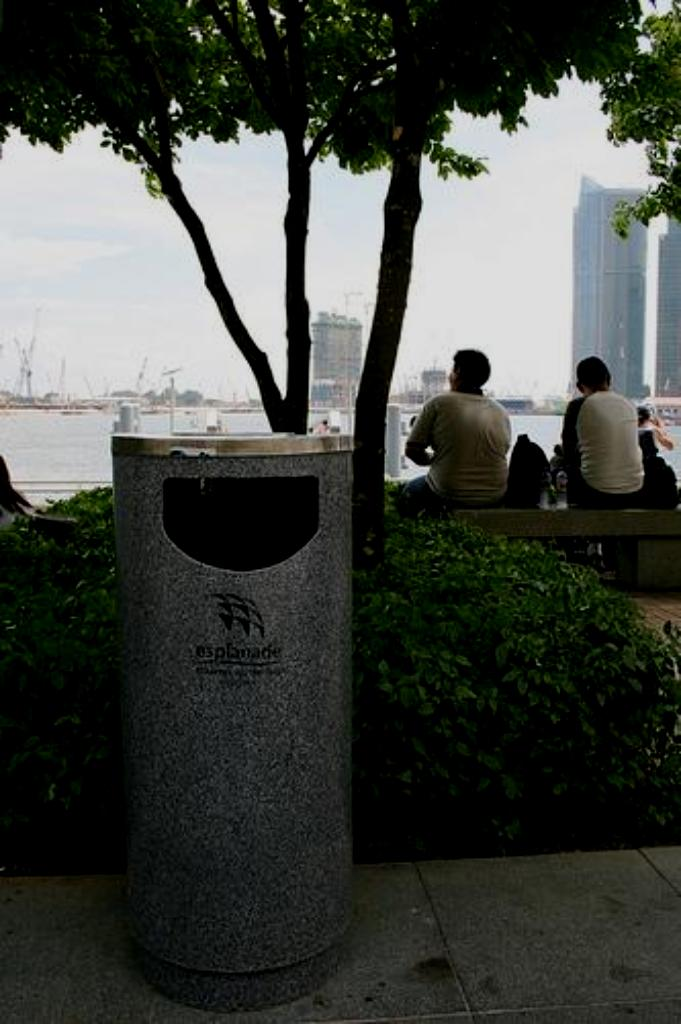dustbin: (106, 410, 381, 994)
